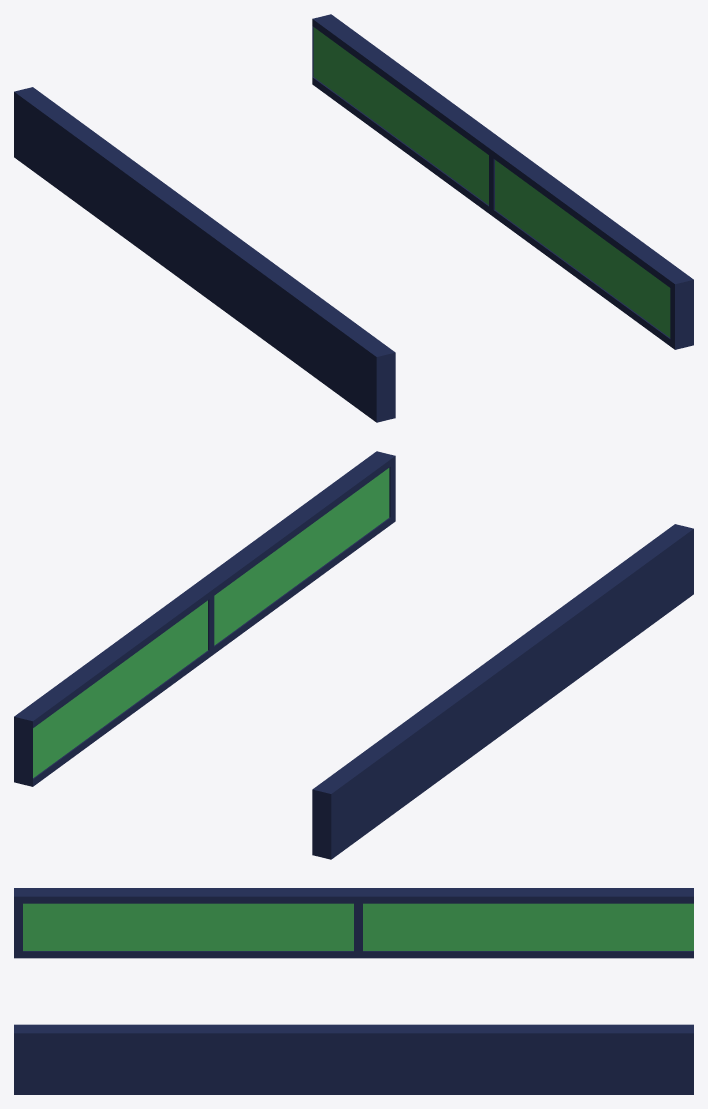
Rendered from wall_upper_test.glb.
3 views of the same model, one above another, from view 1: azimuth 30°, elevation 25°; view 2: azimuth 150°, elevation 25°; view 3: azimuth 270°, elevation 25° (orthographic). The views are drawn at different scales.
Visible parts, largest first — view 1: WallUpper; view 2: WallUpper; view 3: WallUpper.
Part boxes in pixels (<box>): WallUpper: <box>14,14,693,422</box>; WallUpper: <box>14,451,693,859</box>; WallUpper: <box>14,888,693,1094</box>.
Size of the model in its own units: 5.5 by 1.09 by 10.89.
